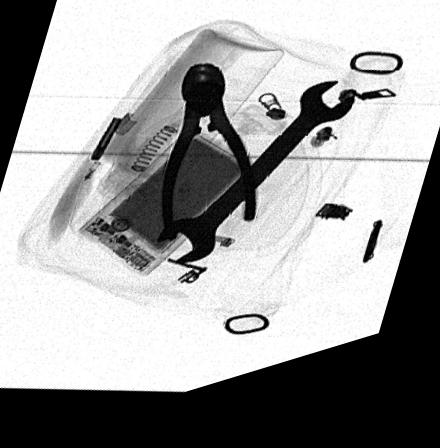Pliers: (160, 73, 258, 251)
Powerbank: (76, 136, 260, 285)
Wrench: (158, 101, 356, 274)
